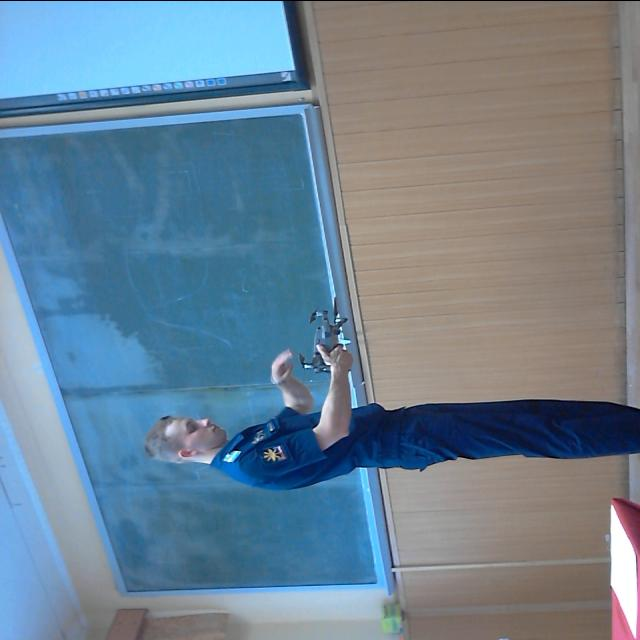drone: (289, 295, 372, 387)
